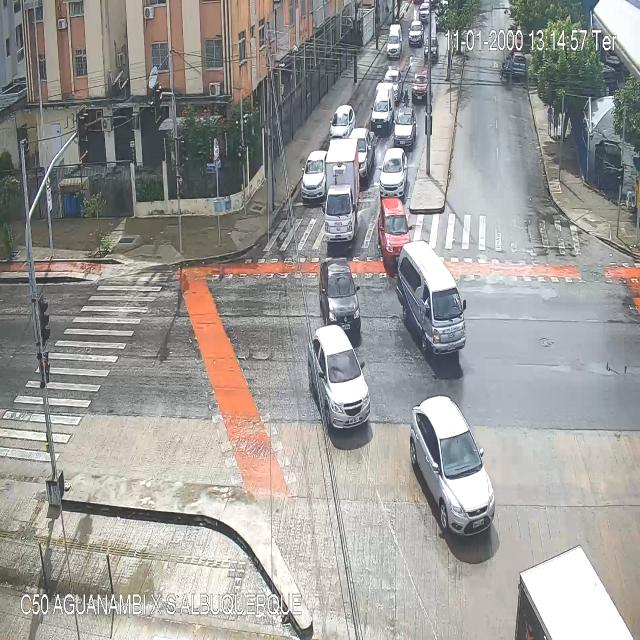Car: (409, 394, 495, 536), (398, 240, 467, 356), (306, 326, 372, 431), (320, 257, 364, 342), (378, 196, 410, 269), (348, 118, 380, 181), (380, 144, 406, 193), (302, 150, 325, 198), (370, 83, 392, 127), (393, 107, 415, 148), (330, 105, 354, 134), (412, 70, 429, 104), (384, 66, 400, 102), (386, 23, 402, 58), (510, 50, 527, 79), (425, 38, 439, 64), (408, 21, 423, 44), (420, 1, 430, 20)
Motorcycle: (499, 56, 511, 82), (404, 83, 409, 110)
Truck: (517, 544, 640, 638), (325, 139, 360, 244)
